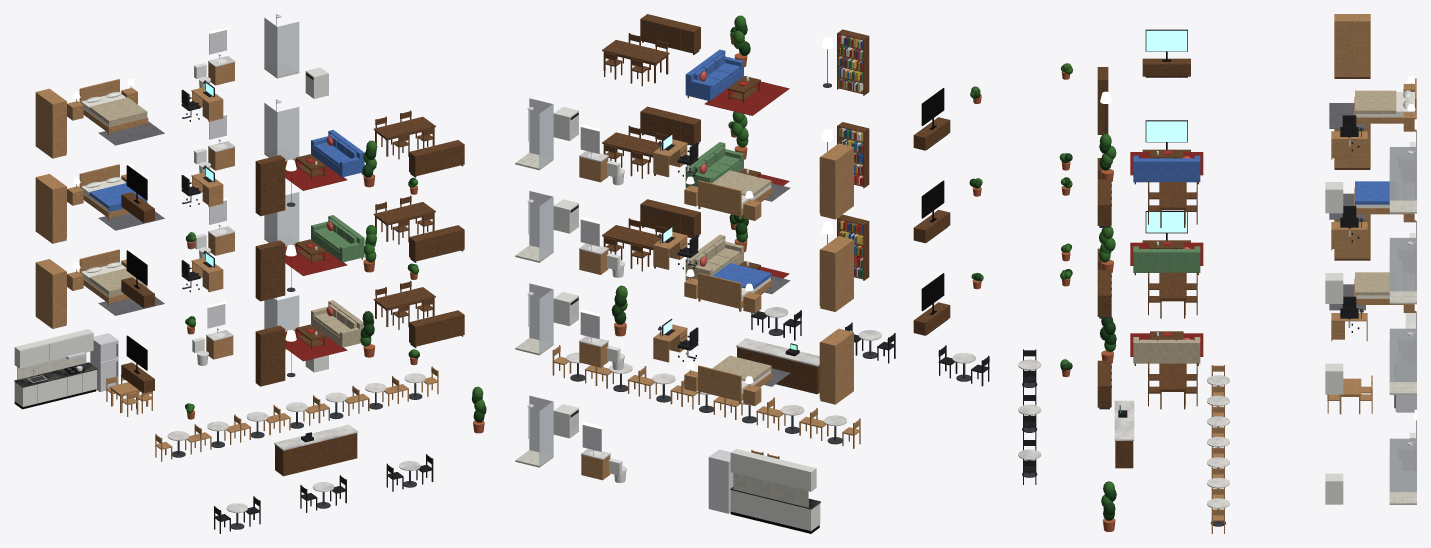
File: i_paris_haussmann.gltf
The picture shows the model from 3 angles, left to right: view 1: azimuth 30°, elevation 25°; view 2: azimuth 150°, elevation 25°; view 3: azimuth 270°, elevation 25°; orthographic projection. The views are drawn at different scales.
Parts seen in each view (by area): view 1: I_paris_haussmann; view 2: I_paris_haussmann; view 3: I_paris_haussmann.
Boxes of the visible parts, x1,y1,x2,y2 form: I_paris_haussmann: (14, 14, 486, 533); I_paris_haussmann: (515, 14, 989, 533); I_paris_haussmann: (1018, 14, 1416, 533).
Bounding box in the file's own units: 13.32 × 12.7 × 13.14.
35 materials, 13 textured.
